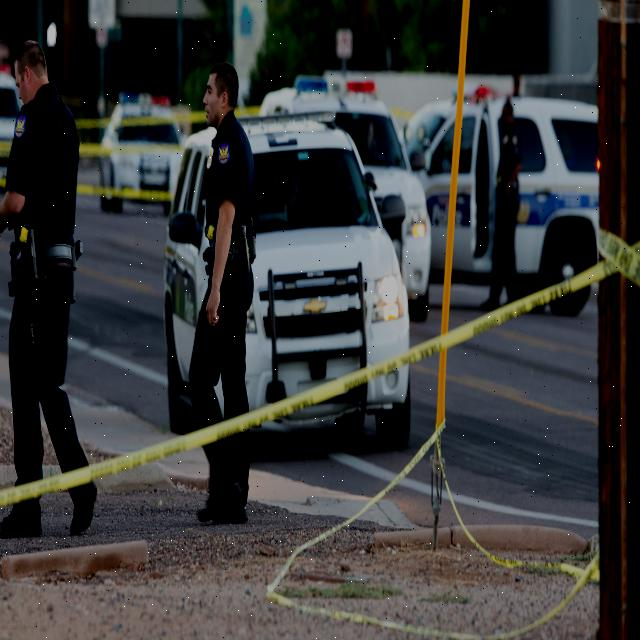police: (0, 20, 125, 569), (172, 54, 274, 558), (474, 76, 538, 338)
